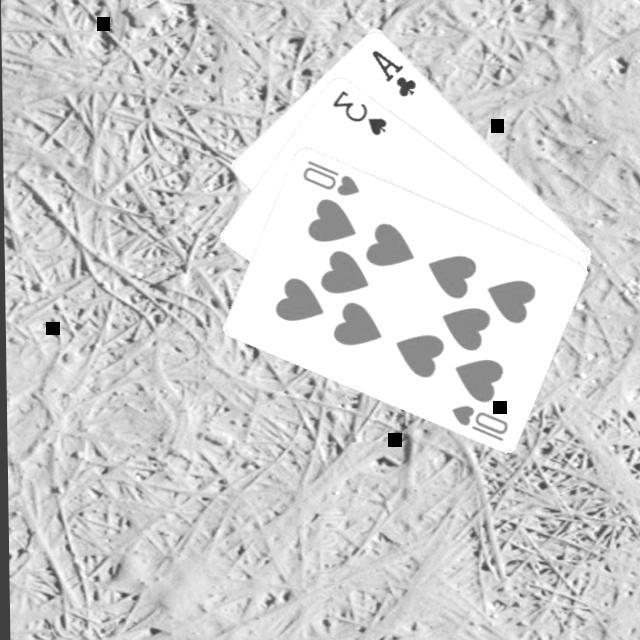10H: (299, 158, 362, 200), (448, 403, 510, 445)
3S: (329, 88, 391, 140)
AC: (368, 48, 420, 102)
